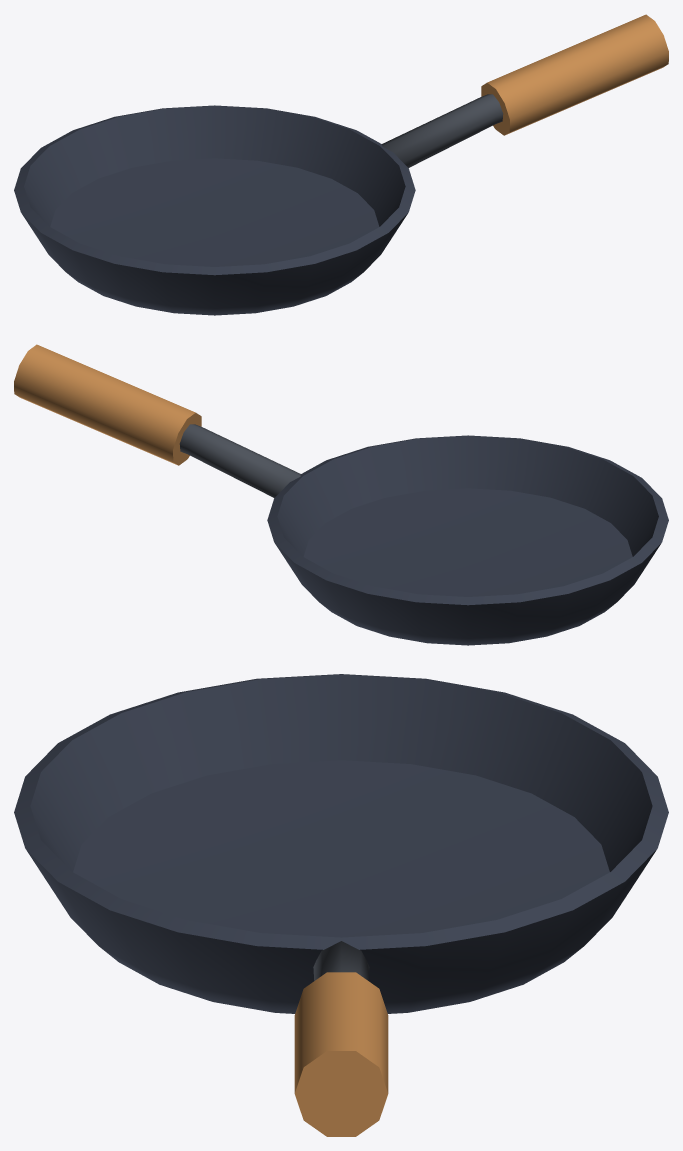
File: frigideira.glb
3 views of the same model, one above another, from view 1: azimuth 30°, elevation 25°; view 2: azimuth 150°, elevation 25°; view 3: azimuth 270°, elevation 25° (orthographic). The views are drawn at different scales.
Parts seen in each view (by area): view 1: frigideira; view 2: frigideira; view 3: frigideira.
Part boxes in pixels (x1,y1,x2,y2): frigideira: [14, 14, 668, 315]; frigideira: [14, 344, 668, 645]; frigideira: [14, 674, 668, 1136].
Bounding box in the file's own units: 0.4973 × 0.096 × 0.28.
